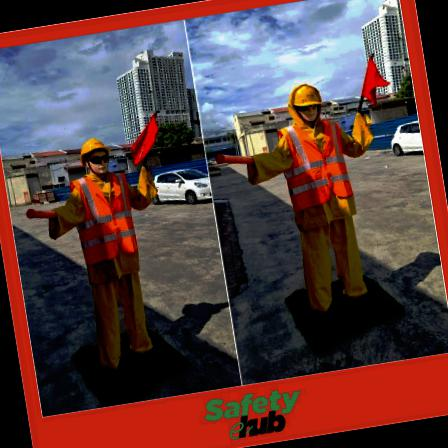Mannequin: (205, 51, 418, 340), (13, 110, 197, 406)
